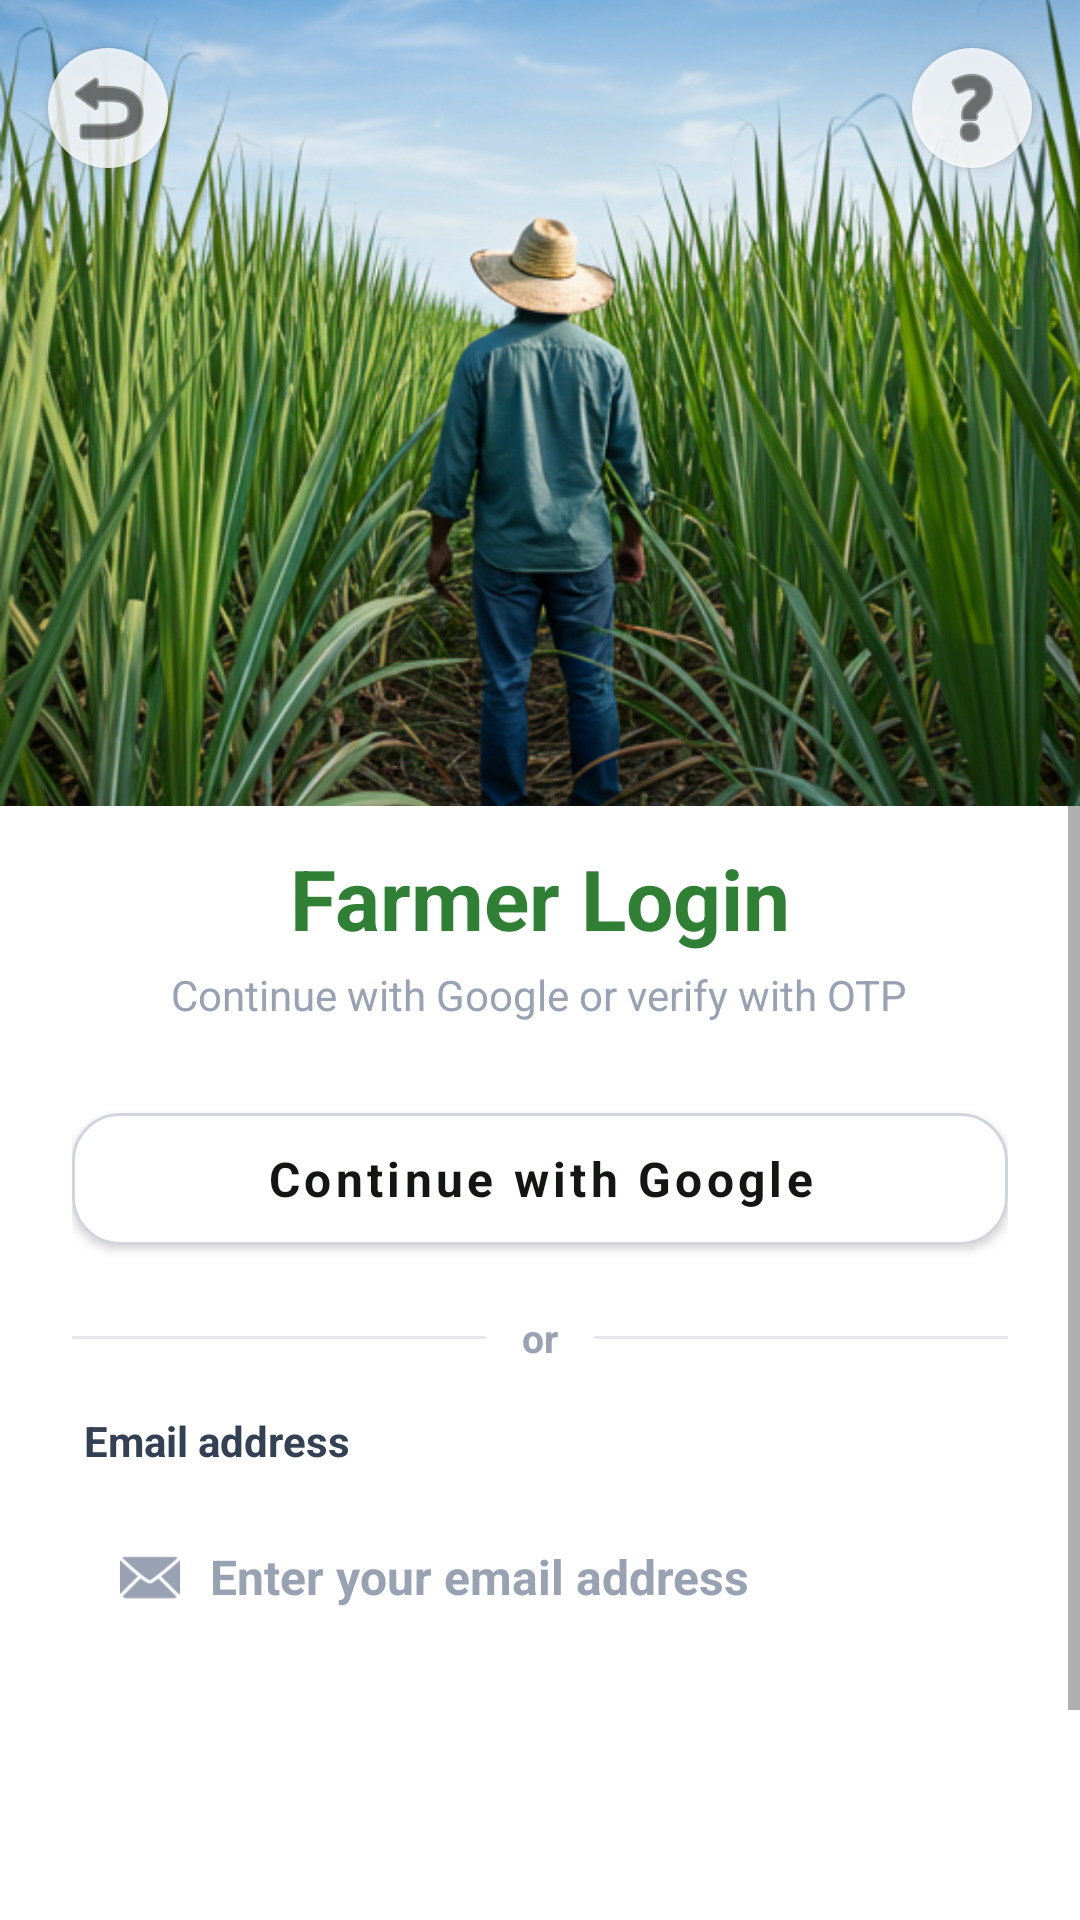

Where to tap for icons on this 1080px x 1920px app screen, as (x=x, y=y):
Back: (x=108, y=108)
Help: (x=972, y=108)
